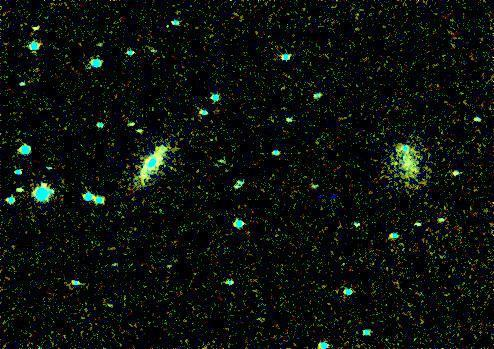star: (149, 133, 179, 163)
